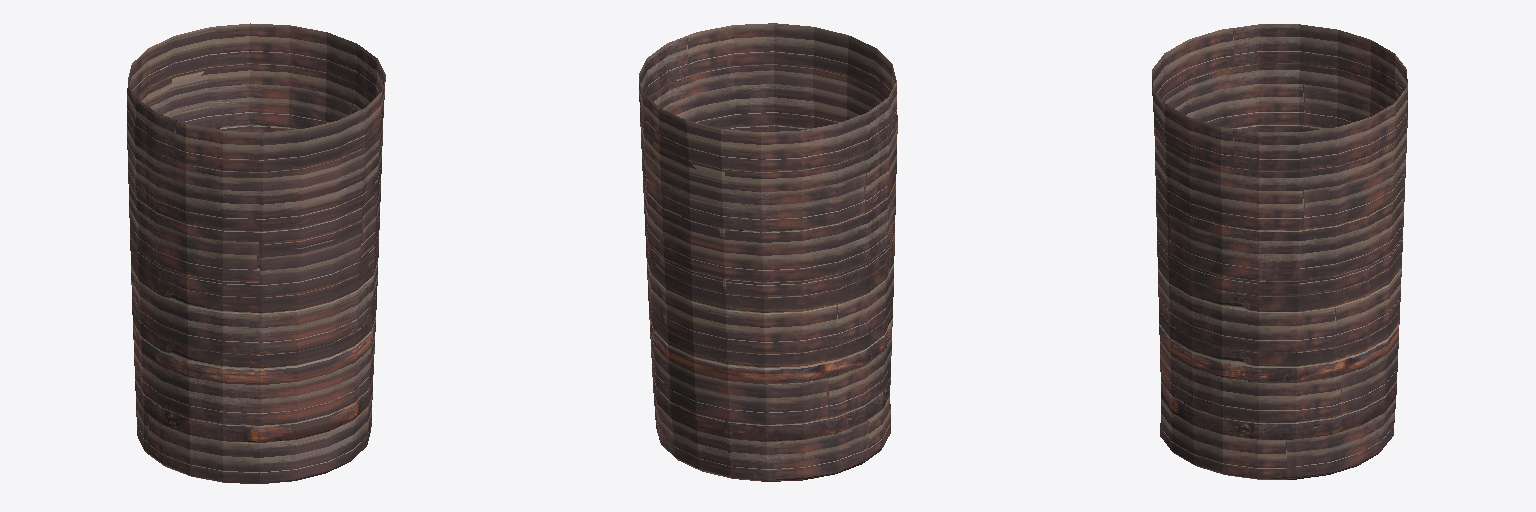
3 renders of one model, left to right at view 1: azimuth 30°, elevation 25°; view 2: azimuth 150°, elevation 25°; view 3: azimuth 270°, elevation 25°, orthographic.
Parts seen in each view (by area): view 1: bote1:Mesh; view 2: bote1:Mesh; view 3: bote1:Mesh.
Boxes of the visible parts, <box> form: bote1:Mesh: <box>127,23,385,483</box>; bote1:Mesh: <box>639,23,897,481</box>; bote1:Mesh: <box>1152,24,1407,479</box>.
Bounding box in the file's own units: 0.525 × 0.803 × 0.5238.
Materials: 1 (1 with a texture image).